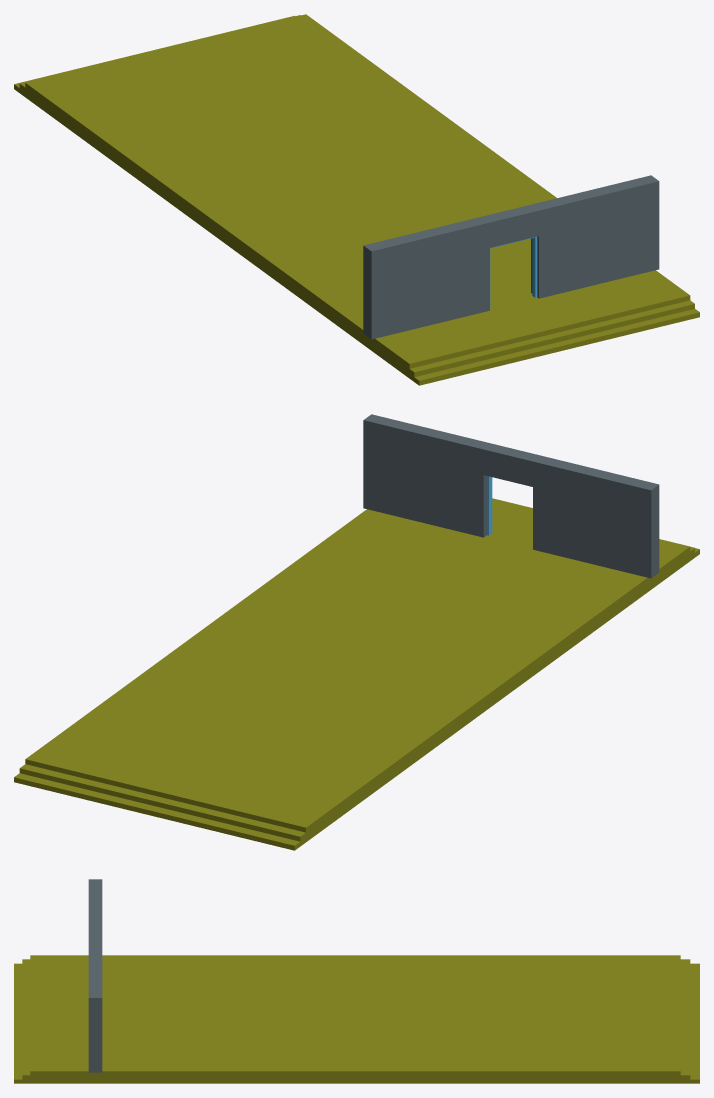
3 views of the same model, one above another, from view 1: azimuth 30°, elevation 25°; view 2: azimuth 150°, elevation 25°; view 3: azimuth 270°, elevation 25° (orthographic). The views are drawn at different scales.
Visible parts, largest first — view 1: BP10_F01_02; view 2: BP10_F01_02; view 3: BP10_F01_02.
Boxes of the visible parts, x1=… form: BP10_F01_02: x1=14, y1=14, x2=699, y2=385; BP10_F01_02: x1=14, y1=414, x2=699, y2=850; BP10_F01_02: x1=14, y1=879, x2=699, y2=1083.
Size of the model in its own units: 1025 by 350 by 2500.
